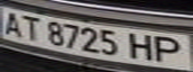2: (78, 25, 103, 55)
5: (100, 27, 124, 57)
7: (60, 21, 81, 51)
8: (42, 19, 66, 47)
A: (0, 8, 27, 38)
H: (127, 30, 160, 62)
P: (151, 34, 190, 63)
T: (18, 12, 45, 42)
